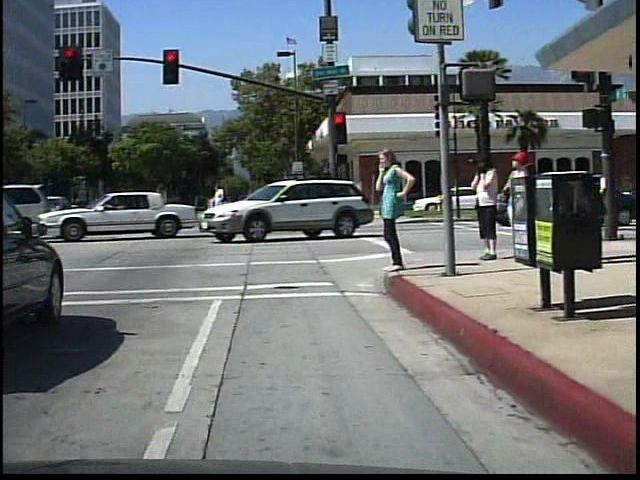person: (371, 146, 415, 281), (463, 148, 503, 263), (497, 146, 537, 248)
